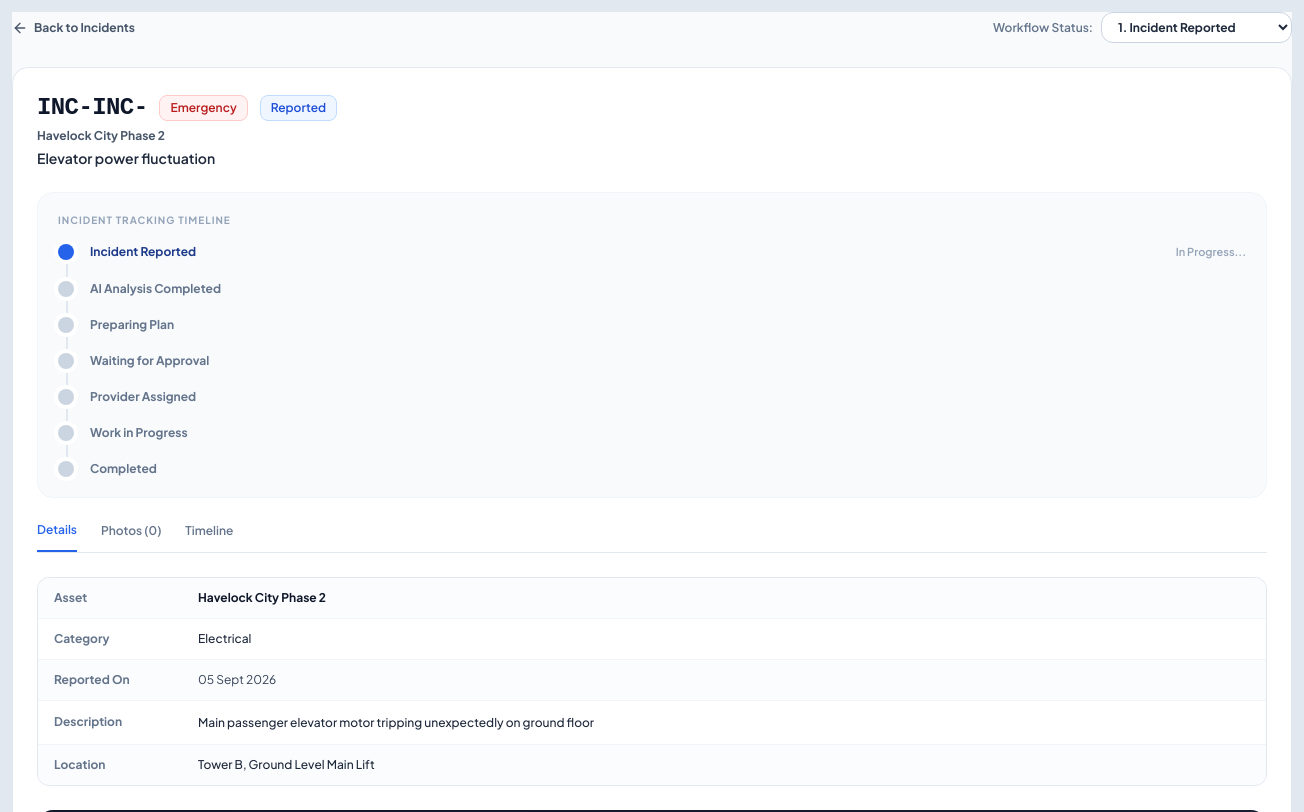
Scenario: IncidentDetailPage › uploads evidence photo successfully when file is attached
Expected: the text "Elevator power fluctuation" is shown, [37, 149, 215, 167]
Click the button "Photos (0)". click: (131, 536)
box: [101, 522, 161, 552]
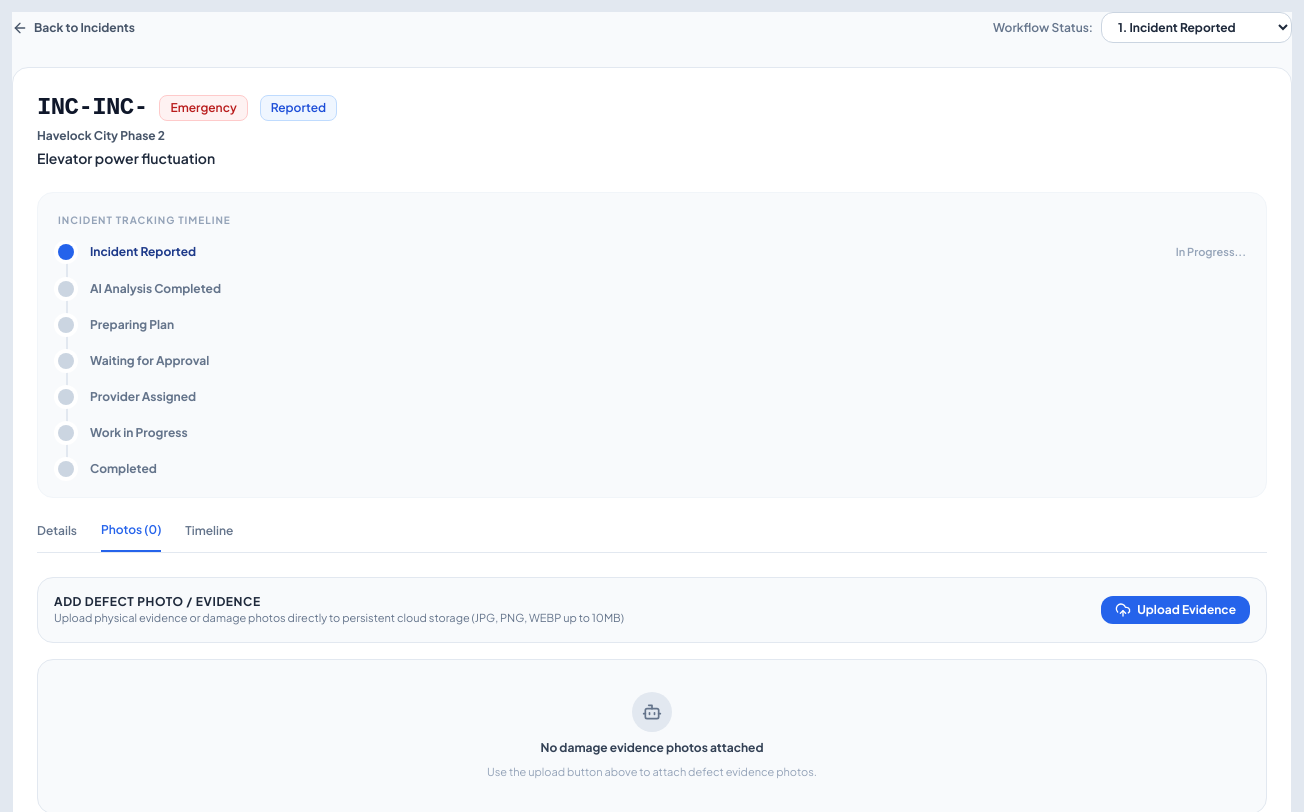
Now the file field labelled "Upload Evidence" is shown, box [1101, 596, 1250, 624]
